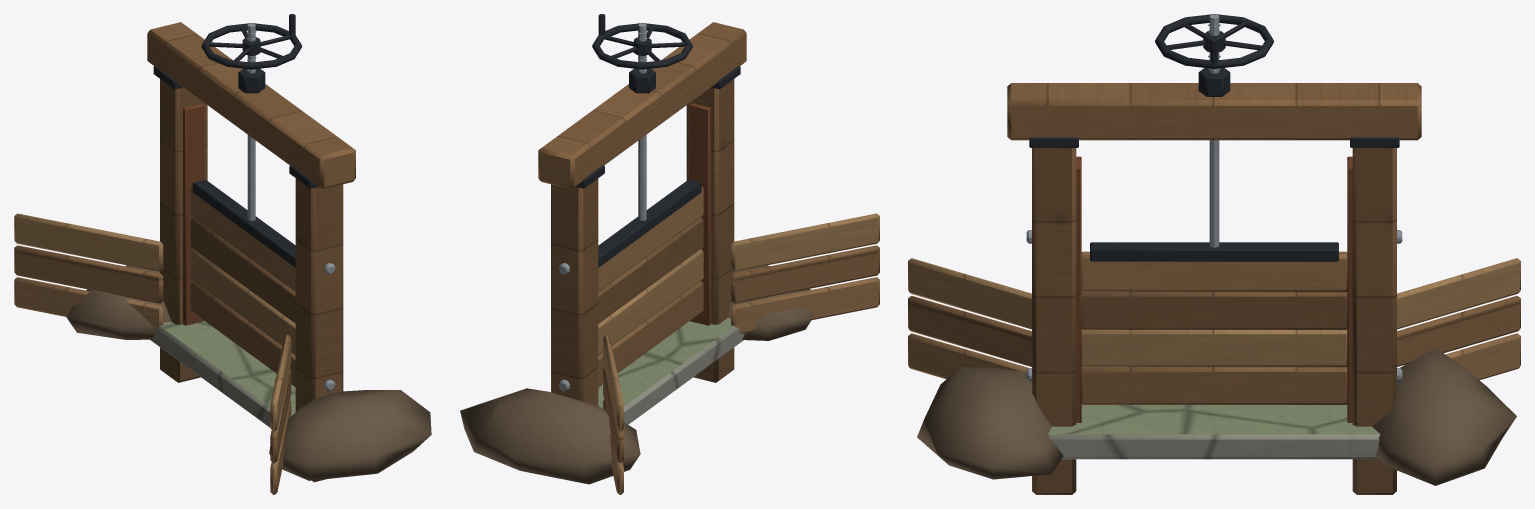
File: irrigation_sluice.glb
3 renders of one model, left to right at view 1: azimuth 30°, elevation 25°; view 2: azimuth 150°, elevation 25°; view 3: azimuth 270°, elevation 25°, orthographic. The views are drawn at different scales.
Visible parts, largest first — view 1: irrigation_sluice; view 2: irrigation_sluice; view 3: irrigation_sluice.
Part boxes in pixels (left/top/right/bottom): irrigation_sluice: left=14, top=14, right=431, bottom=494; irrigation_sluice: left=460, top=14, right=879, bottom=494; irrigation_sluice: left=908, top=14, right=1520, bottom=494.
Bounding box in the file's own units: 0.9746 × 1.88 × 2.22.
Materials: 12 (12 with a texture image).
